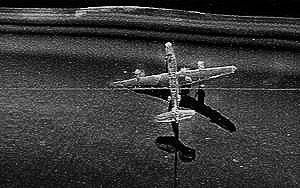plane: (114, 43, 236, 121)
